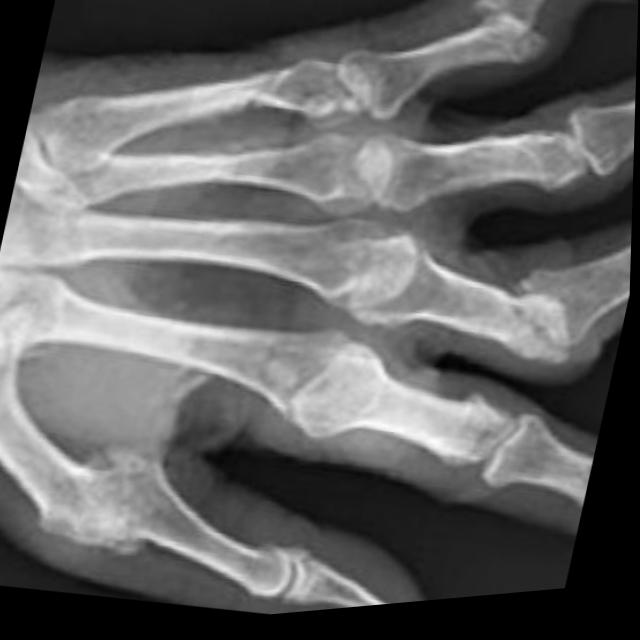fracture: (498, 266, 602, 384)
